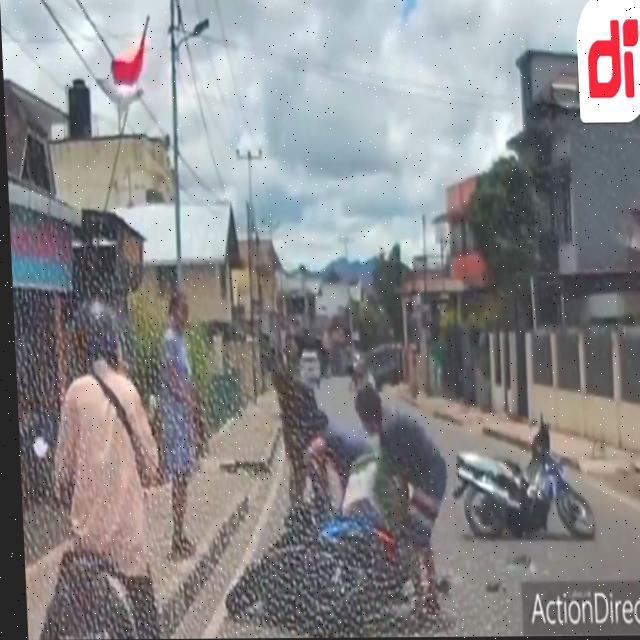single accident: (225, 472, 411, 640)
